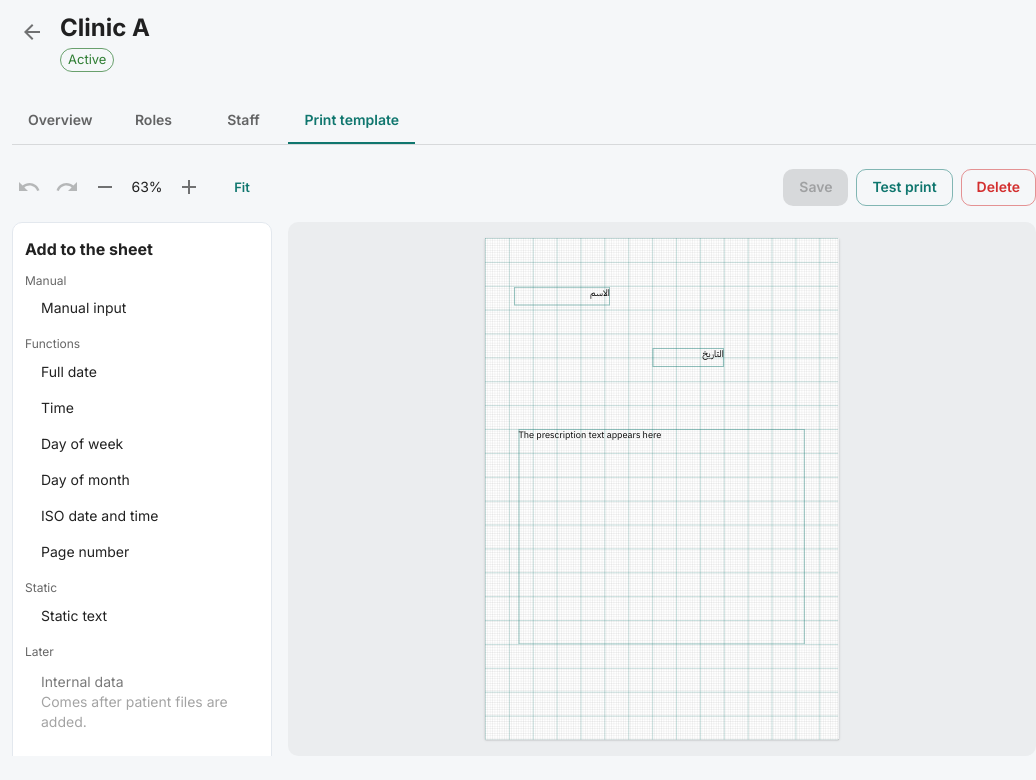
Scenario: print template undo: the buttons @area:admin › a remove brought back: its place, its name and its order, selected @TPL-457 @TPL-576
Click the button "الاسم" at (562, 296), box left=515, top=286, right=610, bottom=305
(page scrolled)
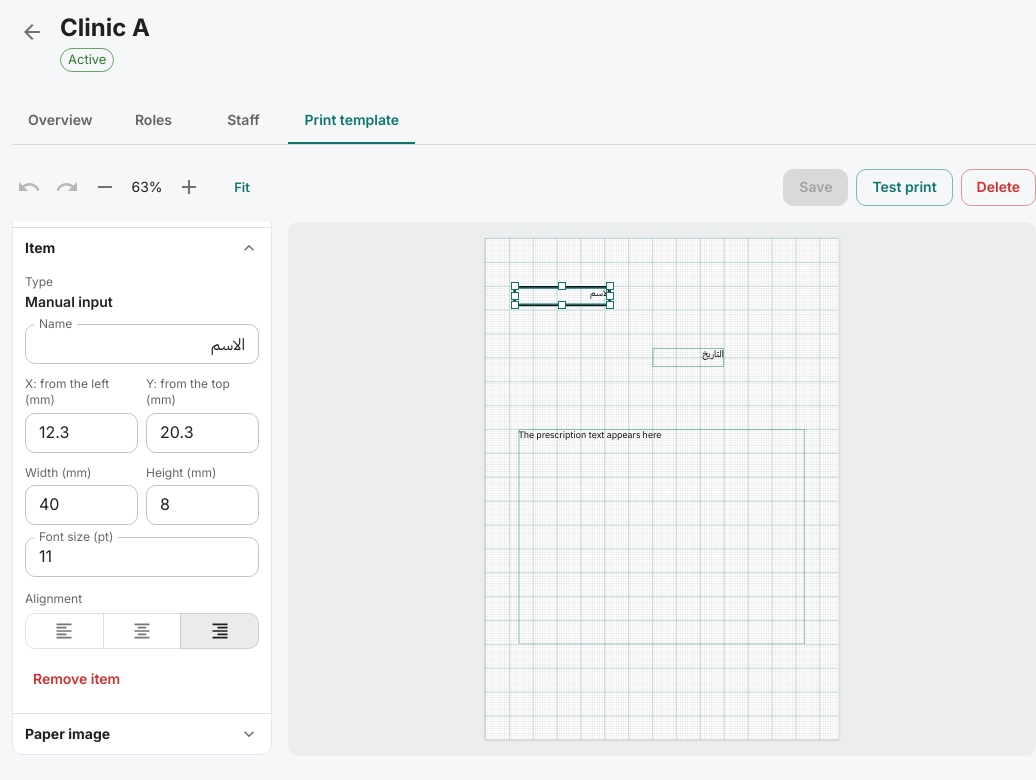
Click the button "Remove item" at (77, 679), box left=25, top=661, right=128, bottom=697
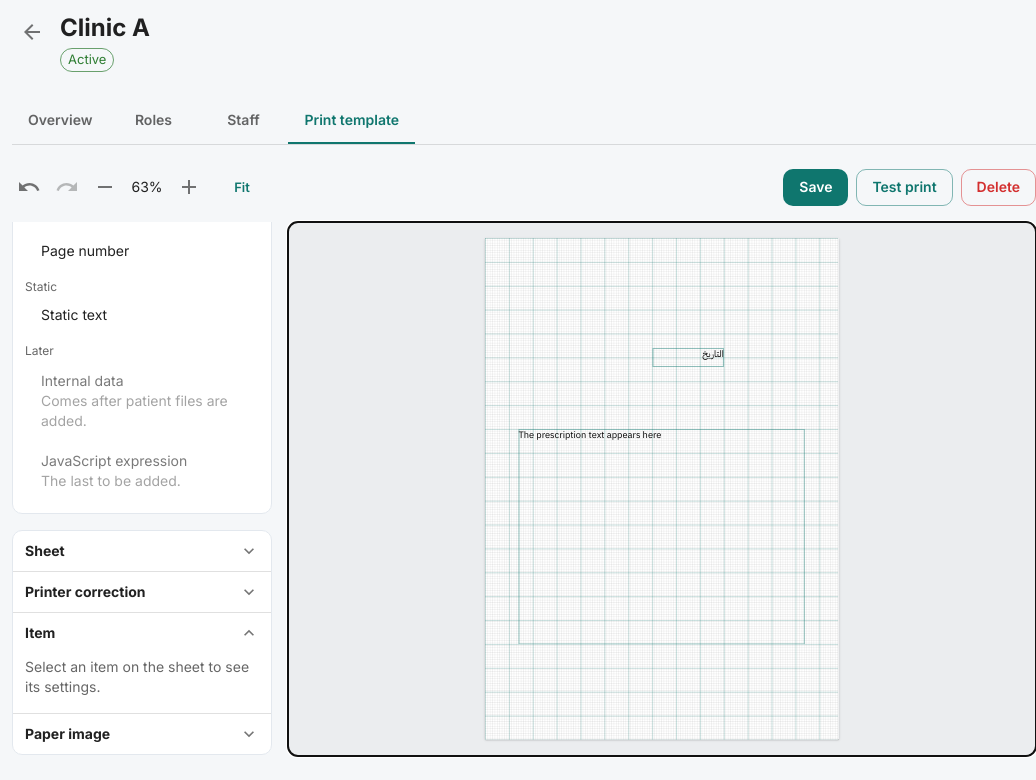
Click the button named "Undo" at (29, 187), box left=12, top=170, right=46, bottom=204
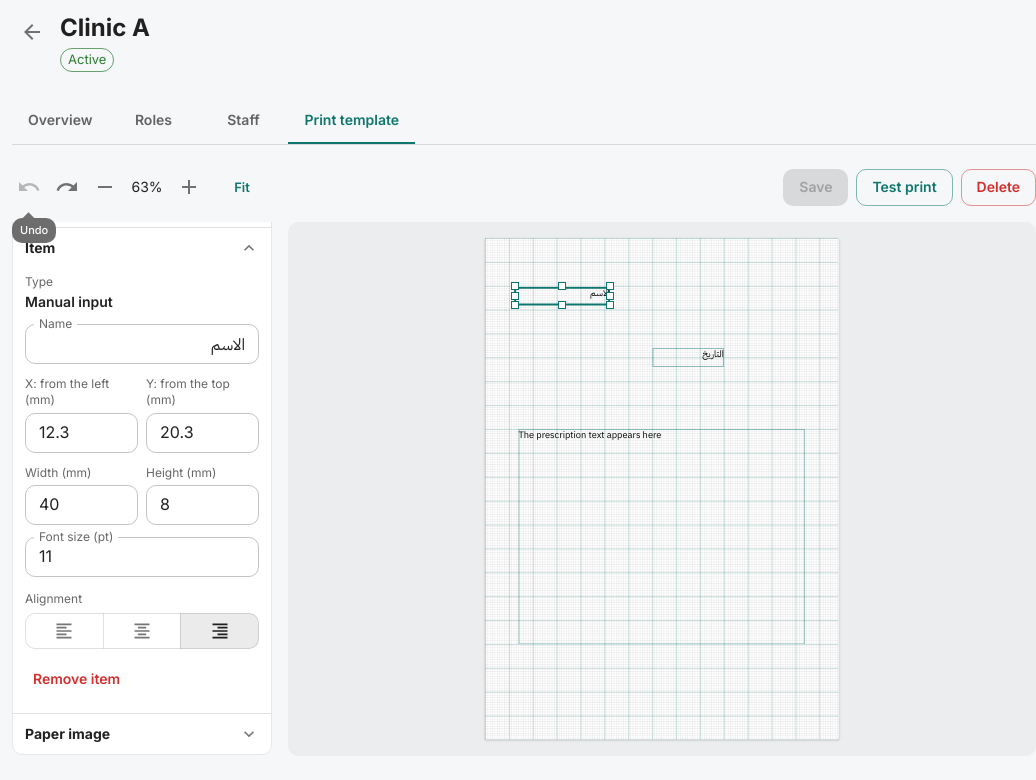
expect the button "الاسم" is shown: met, box left=515, top=286, right=610, bottom=305
expect the button "Save" is disabled: met, box left=783, top=169, right=848, bottom=206
